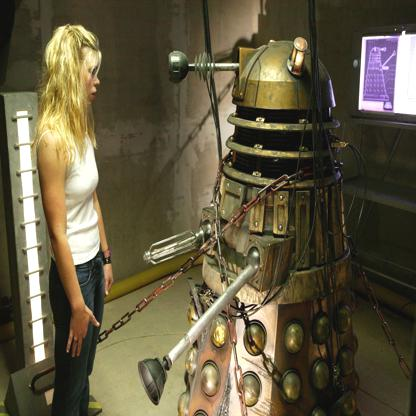dalek: (130, 21, 366, 416)
person: (11, 17, 122, 416)
